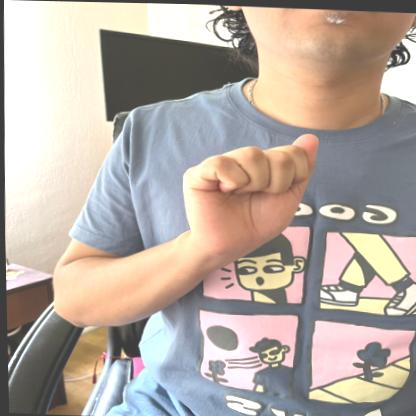A: (176, 122, 326, 250)
